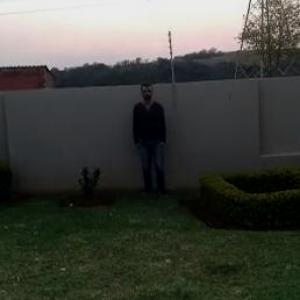follow: (130, 78, 168, 201)
